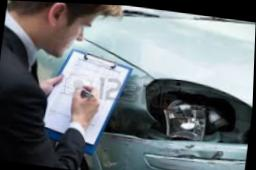Bumper: (101, 133, 248, 170)
Fender: (106, 109, 157, 136)
Light: (146, 78, 252, 145)
